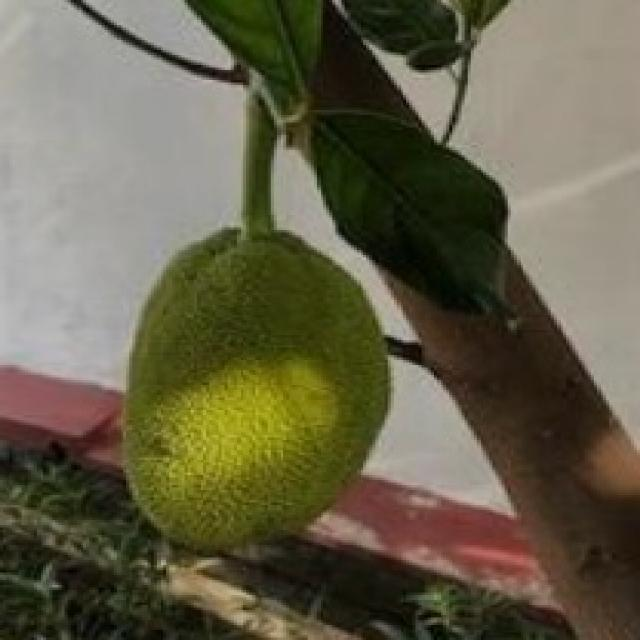Fruit: (92, 212, 428, 582)
